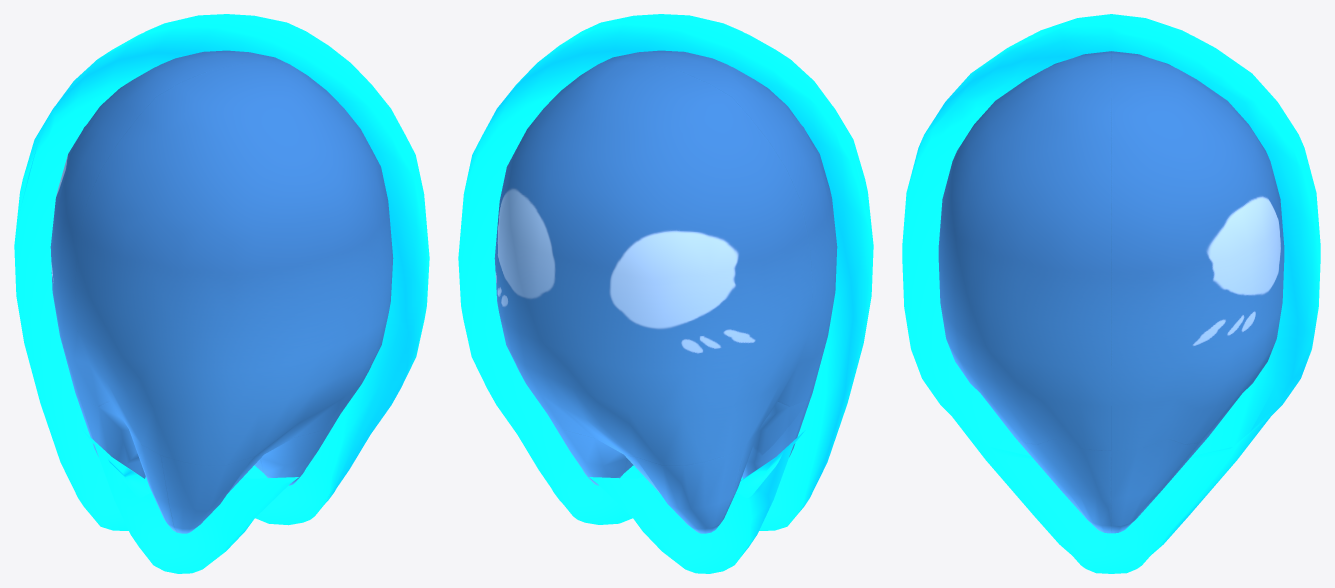
File: darkBlueGhost.glb
3 renders of one model, left to right at view 1: azimuth 30°, elevation 25°; view 2: azimuth 150°, elevation 25°; view 3: azimuth 270°, elevation 25°, orthographic.
Visible parts, largest first — view 1: Cylinder.010; view 2: Cylinder.010; view 3: Cylinder.010.
Boxes of the visible parts, left/top/right/bottom form: Cylinder.010: left=14, top=14, right=429, bottom=573; Cylinder.010: left=458, top=14, right=873, bottom=573; Cylinder.010: left=902, top=14, right=1320, bottom=573.
Bounding box in the file's own units: 4.76 × 6.29 × 4.84.
2 materials, 1 textured.
